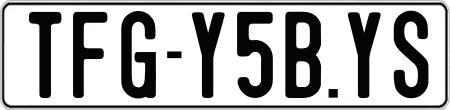5: (237, 12, 279, 101)
B: (285, 12, 321, 101)
F: (71, 10, 110, 98)
G: (121, 10, 157, 103)
S: (394, 11, 434, 101)
T: (28, 12, 66, 101)
Y: (348, 12, 386, 99), (192, 12, 225, 101)
